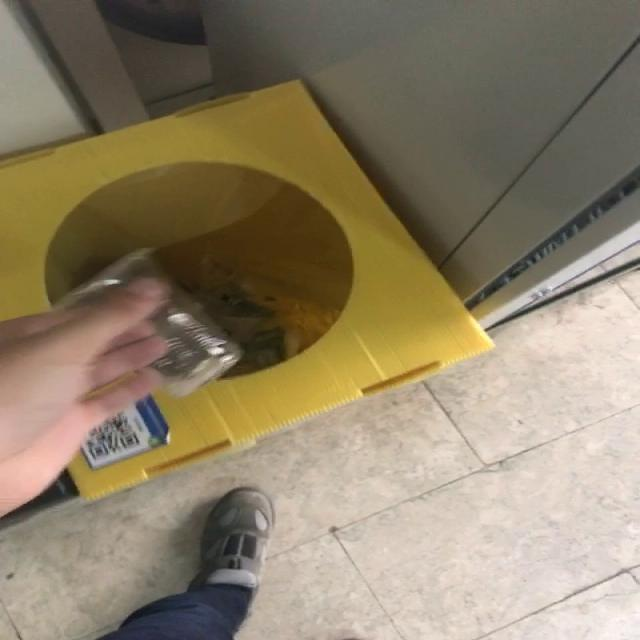cup: (39, 243, 249, 407)
